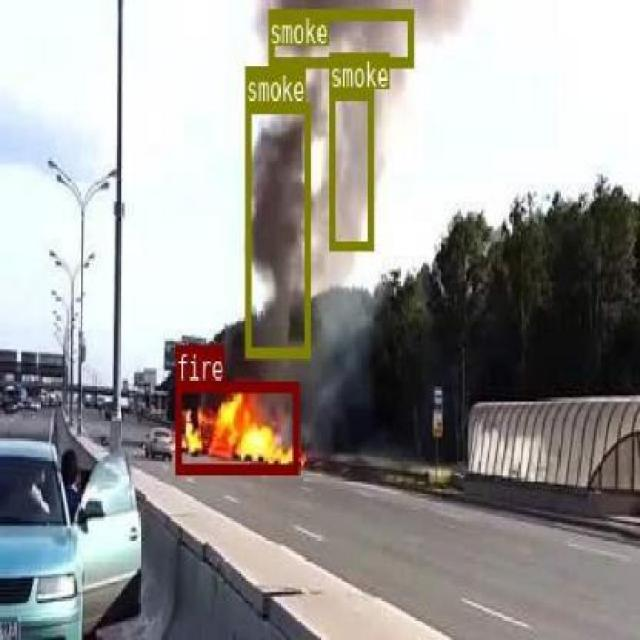CIV_Plane: (175, 381, 298, 472)
Fire: (175, 381, 298, 472)
Smoke: (245, 102, 308, 355), (303, 8, 377, 66), (328, 56, 372, 151)
